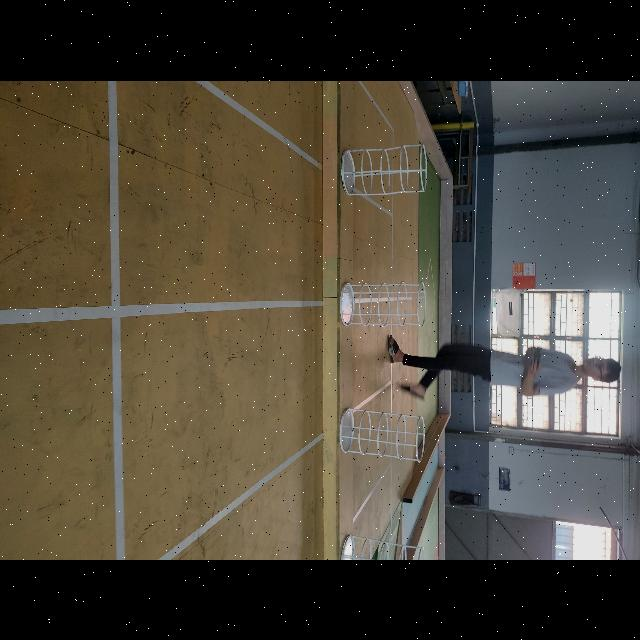S: (339, 408, 424, 462), (340, 143, 427, 195), (338, 280, 428, 325), (339, 535, 424, 560)
